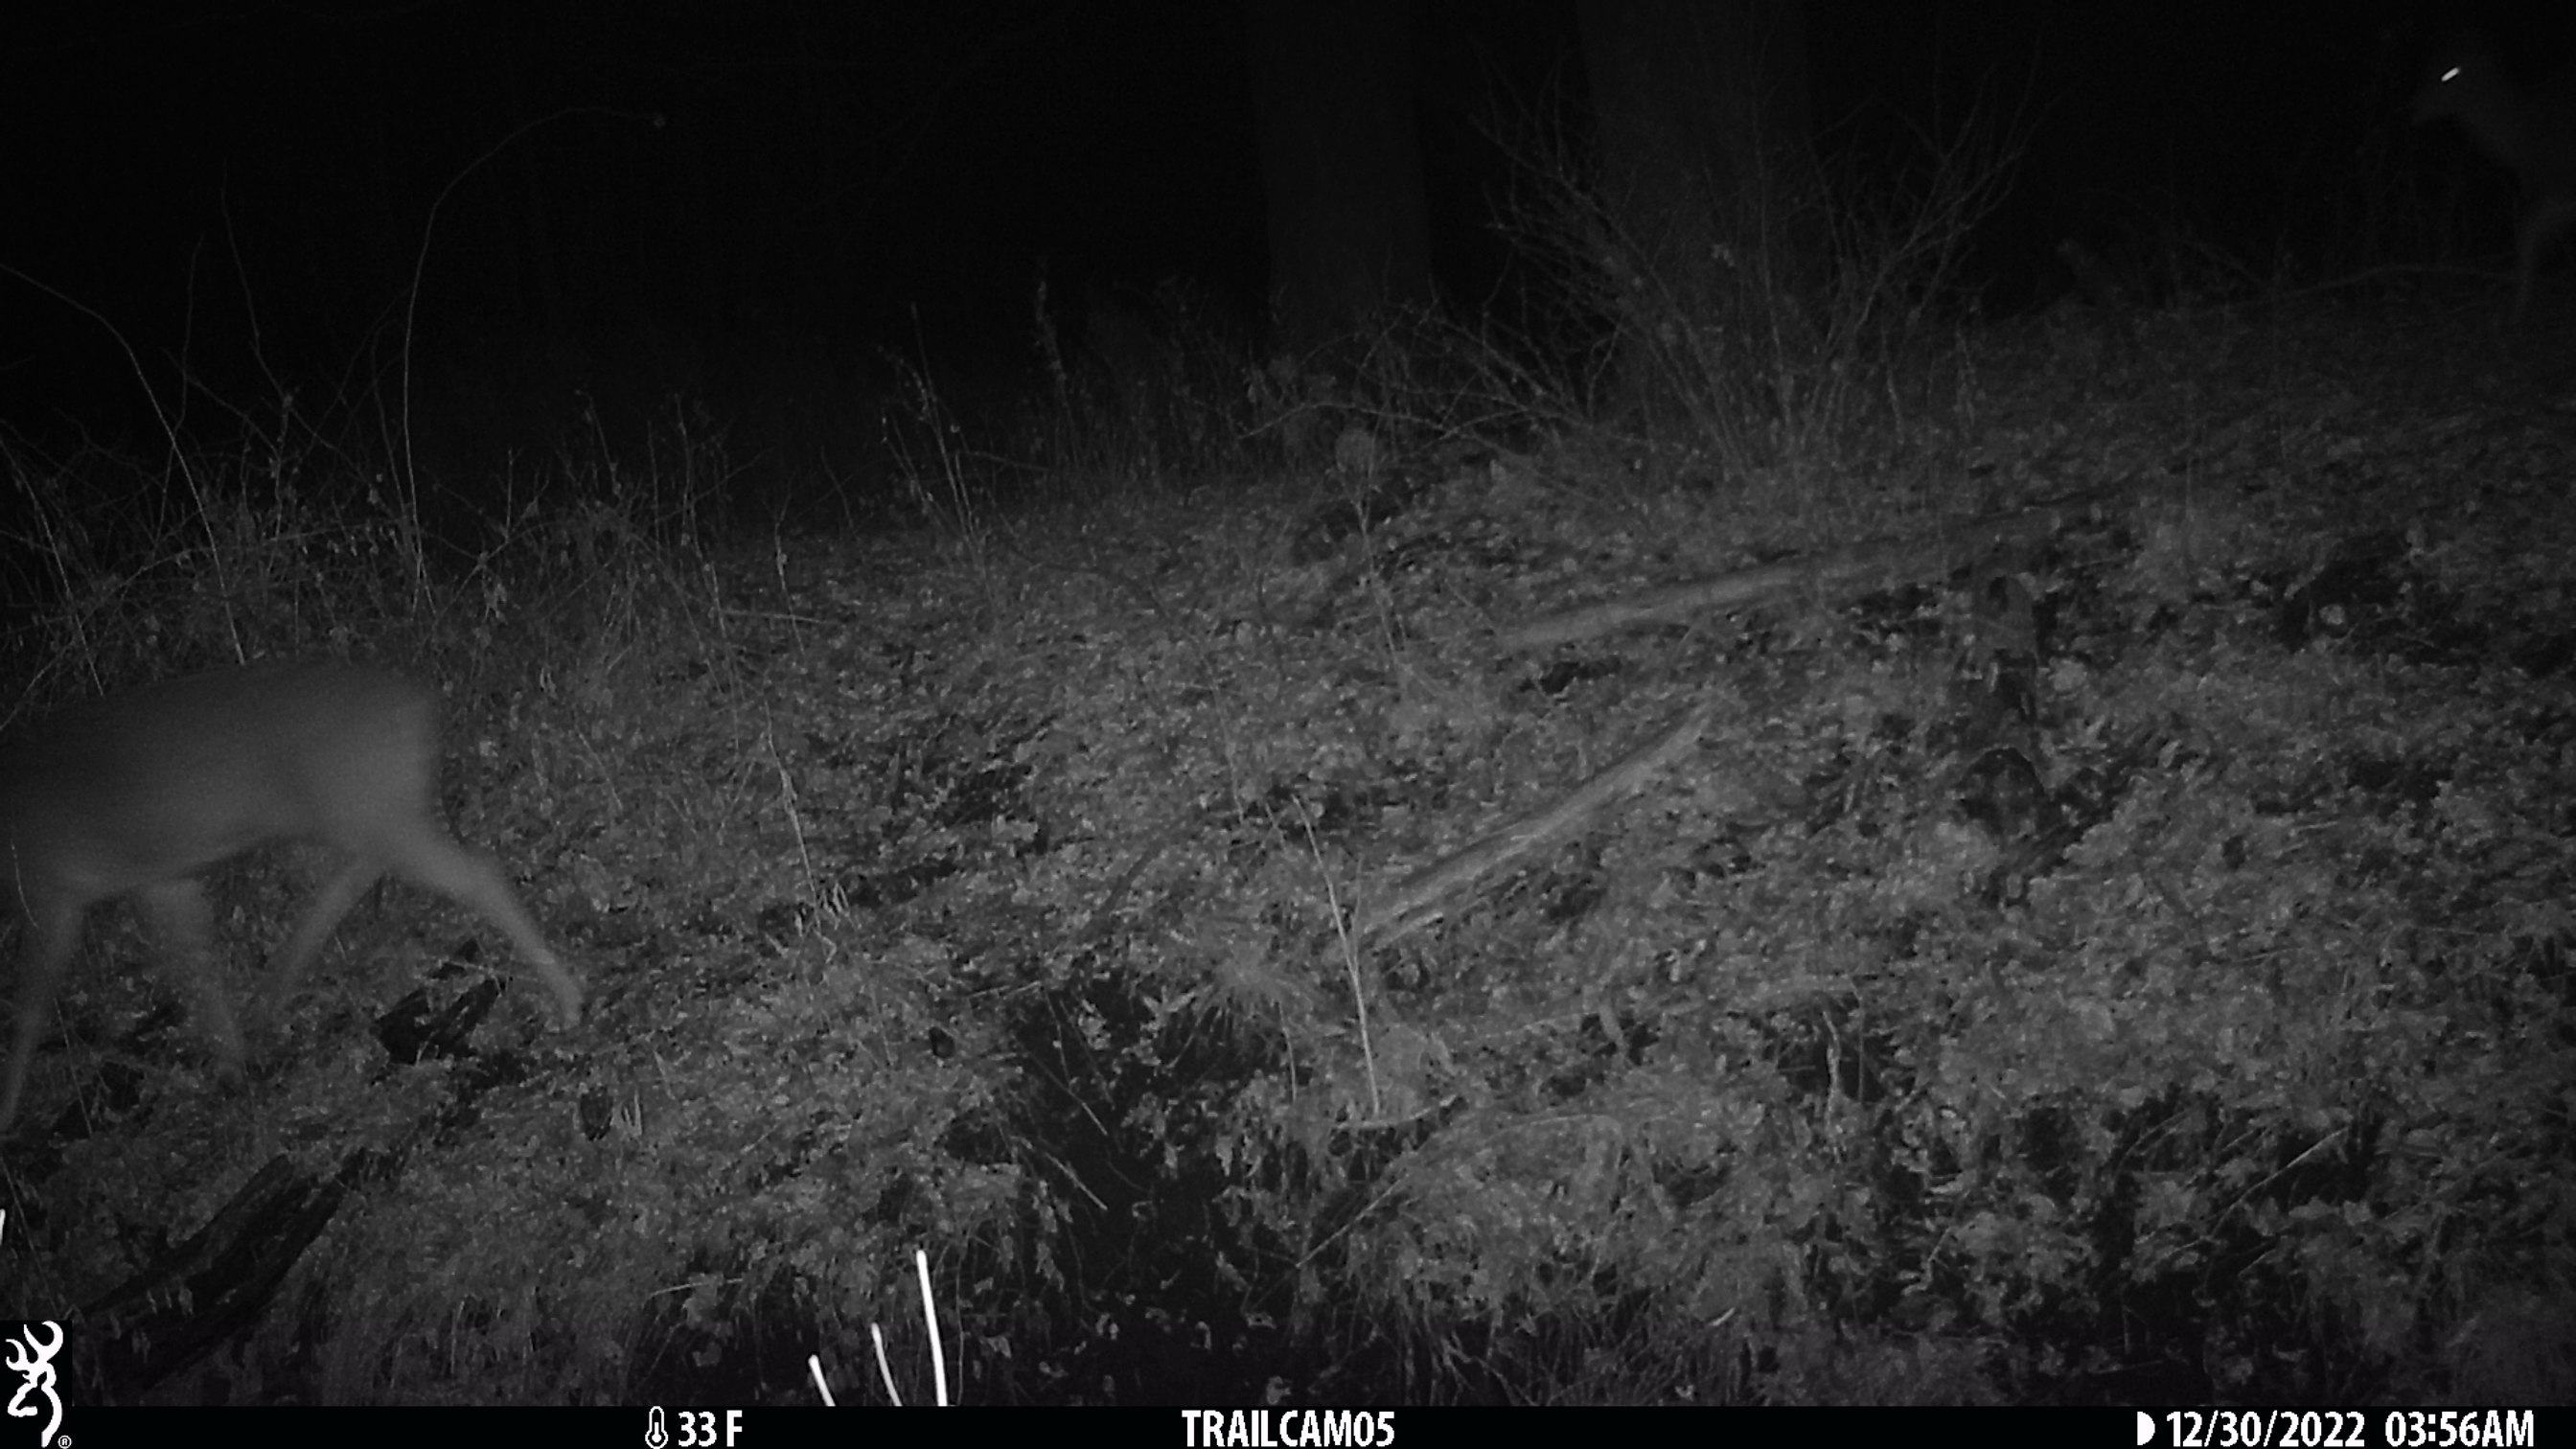Deer: (2, 648, 589, 1134), (2383, 42, 2576, 333)
